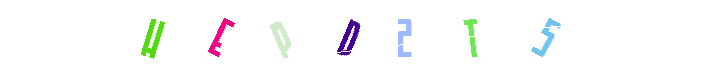2: (323, 0, 403, 80)
5: (435, 0, 515, 80)
D: (309, 0, 389, 80)
E: (179, 0, 259, 80)
H: (112, 0, 192, 80)
P: (236, 0, 316, 80)
T: (431, 0, 511, 80)
